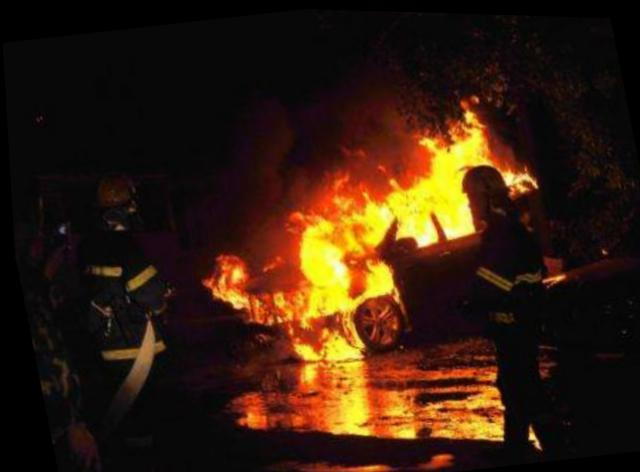fire: (178, 87, 543, 373)
